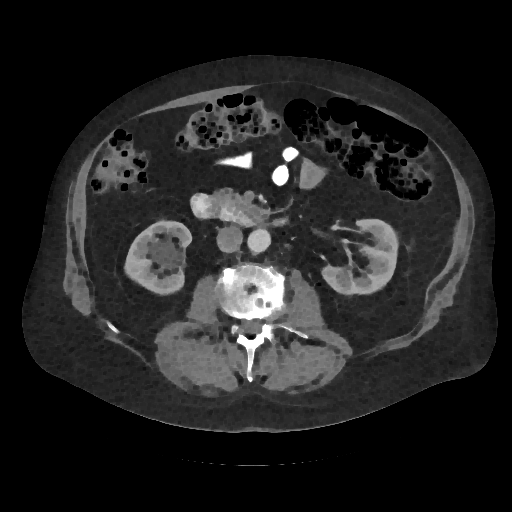Lesion: (146, 239, 184, 272)
